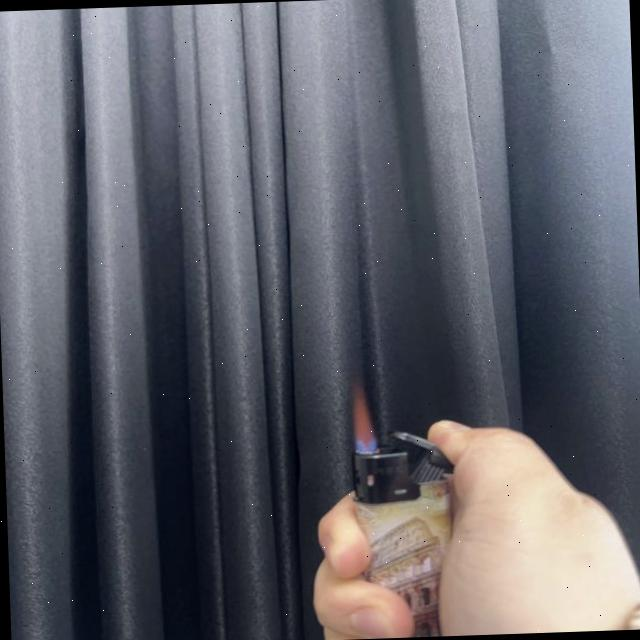fire: (347, 382, 377, 454)
